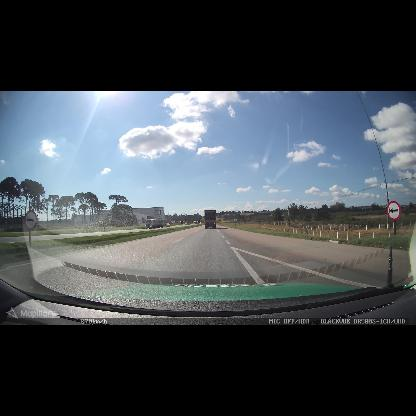R-24a: (387, 201, 401, 220), (24, 210, 37, 230)
